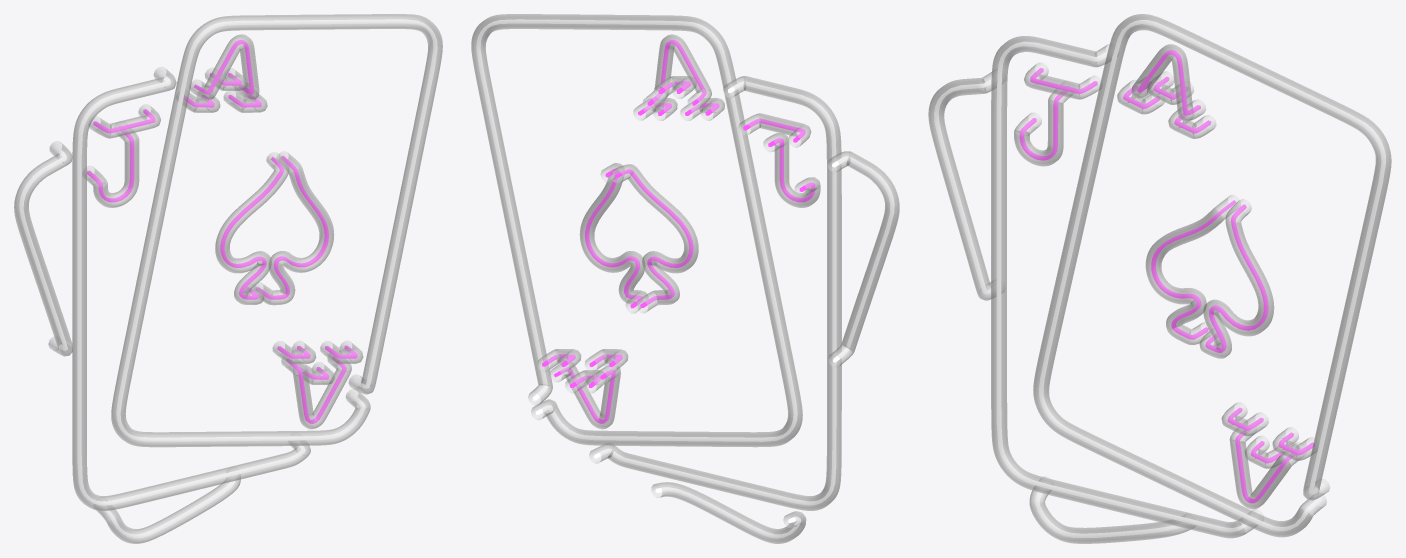
Rendered from neon_poker.glb.
The picture shows the model from 3 angles, left to right: view 1: azimuth 30°, elevation 25°; view 2: azimuth 150°, elevation 25°; view 3: azimuth 330°, elevation 25°; orthographic projection. The views are drawn at different scales.
Visible parts, largest first — view 1: Glass, Emissive; view 2: Glass, Emissive; view 3: Glass, Emissive.
Boxes of the visible parts, <box> form: Glass: <box>14,14,442,543</box>; Emissive: <box>19,19,437,538</box>; Glass: <box>471,14,899,543</box>; Emissive: <box>476,19,894,538</box>; Glass: <box>928,14,1391,543</box>; Emissive: <box>934,20,1385,537</box>.
Bounding box in the file's own units: 0.3269 × 0.3701 × 0.0223.
